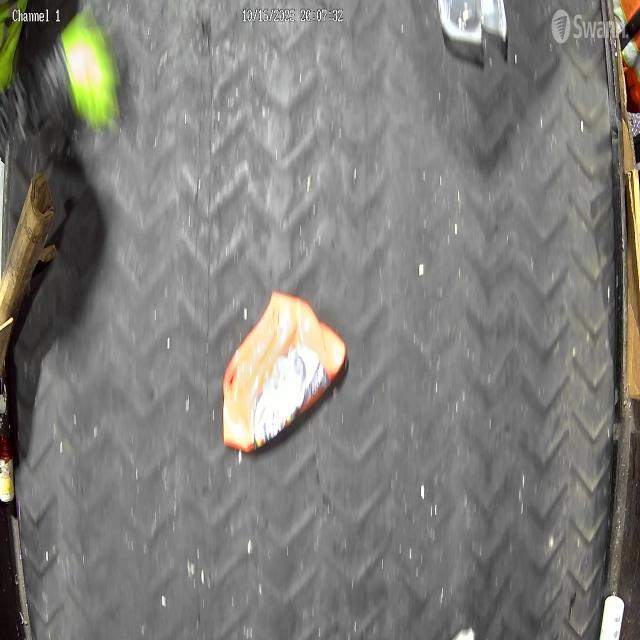non_white_jug: (220, 288, 348, 459)
